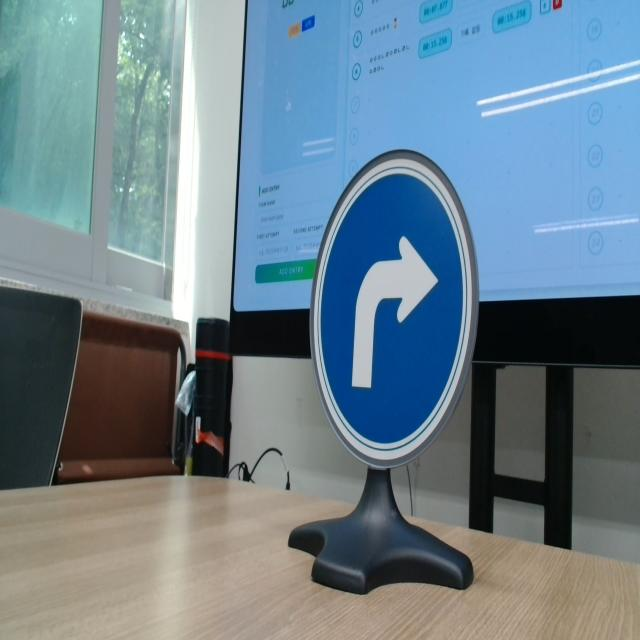right_dierection: (282, 127, 483, 494)
